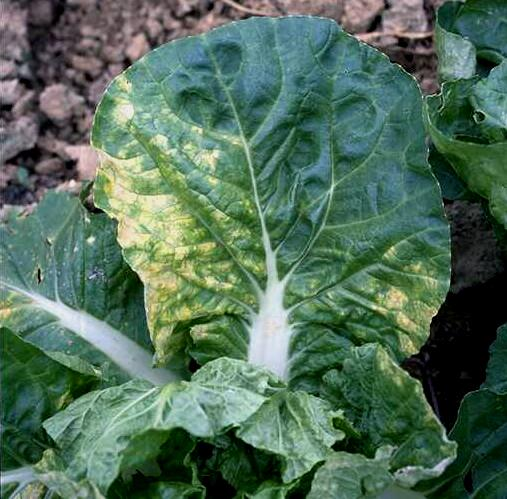Bok-Choy-Diseased: (87, 26, 429, 388)
